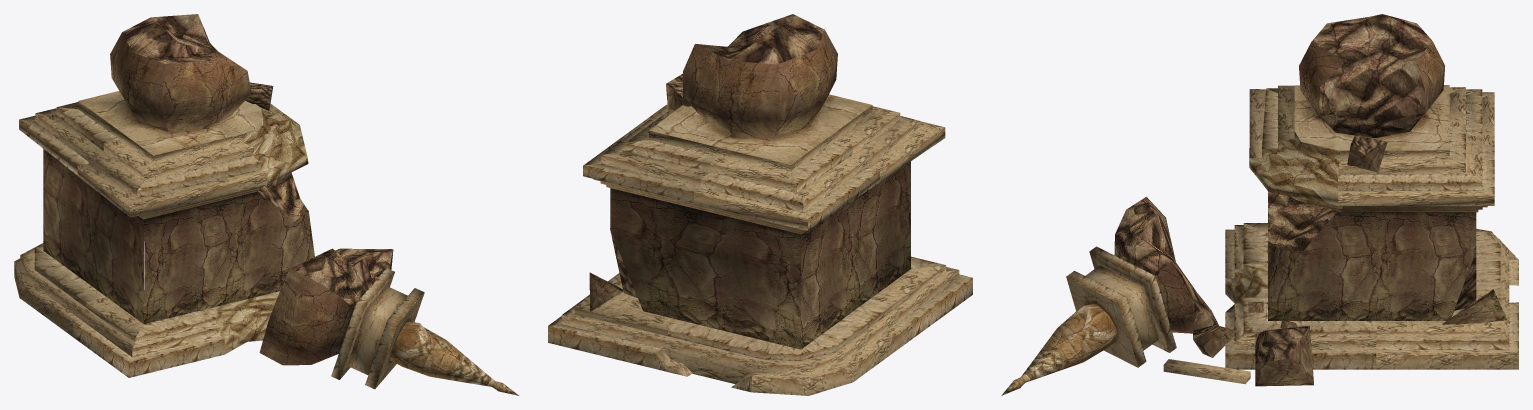
The model's file is w_cd_ firetower00.glb.
3 views of the same model, side by side, from view 1: azimuth 30°, elevation 25°; view 2: azimuth 150°, elevation 25°; view 3: azimuth 270°, elevation 25° (orthographic). The views are drawn at different scales.
Parts seen in each view (by area): view 1: w_cd_ firetower00 (×2), w_cd_ firetower01; view 2: w_cd_ firetower00 (×2), w_cd_ firetower01; view 3: w_cd_ firetower00 (×2), w_cd_ firetower01.
Part boxes in pixels (x1,y1,x2,y2): w_cd_ firetower00 (×2): (19, 14, 519, 395); w_cd_ firetower01: (14, 101, 299, 356); w_cd_ firetower00 (×2): (548, 14, 972, 392); w_cd_ firetower01: (548, 105, 959, 395); w_cd_ firetower00 (×2): (1001, 14, 1518, 395); w_cd_ firetower01: (1163, 85, 1518, 384).
Size of the model in its own units: 22.88 by 20.89 by 33.65.
Materials: 6 (6 with a texture image).
